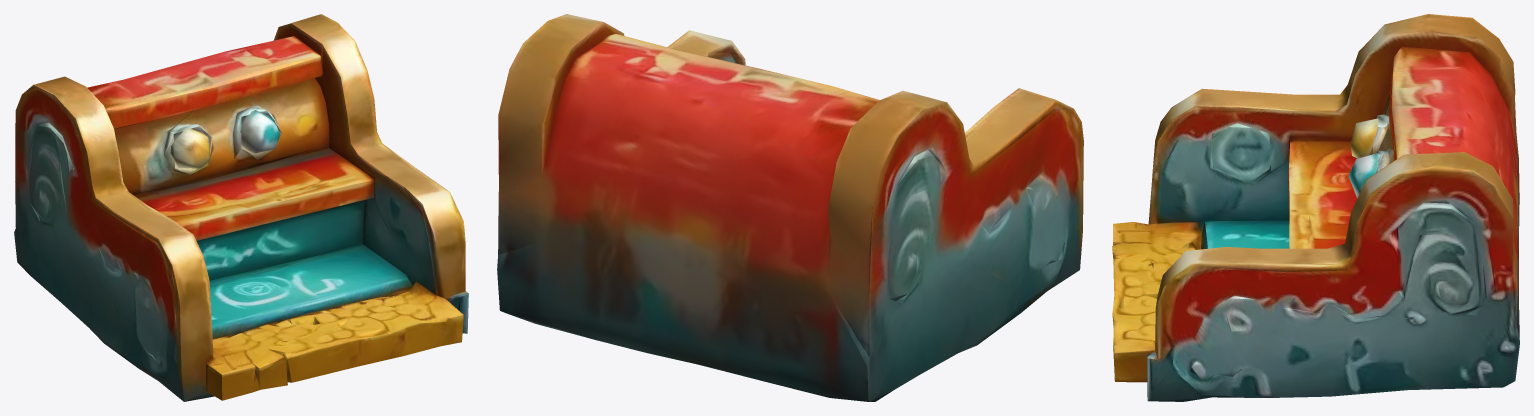
Rendered from m2RailSegment.glb.
The picture shows the model from 3 angles, left to right: view 1: azimuth 30°, elevation 25°; view 2: azimuth 150°, elevation 25°; view 3: azimuth 270°, elevation 25°; orthographic projection. The views are drawn at different scales.
Parts seen in each view (by area): view 1: model; view 2: model; view 3: model.
Part boxes in pixels (x1=…): model: x1=14, y1=14, x2=468, y2=401; model: x1=497, y1=14, x2=1083, y2=401; model: x1=1112, y1=14, x2=1519, y2=401.
Size of the model in its own units: 1.74 by 1.22 by 1.9.
Materials: 1 (1 with a texture image).
